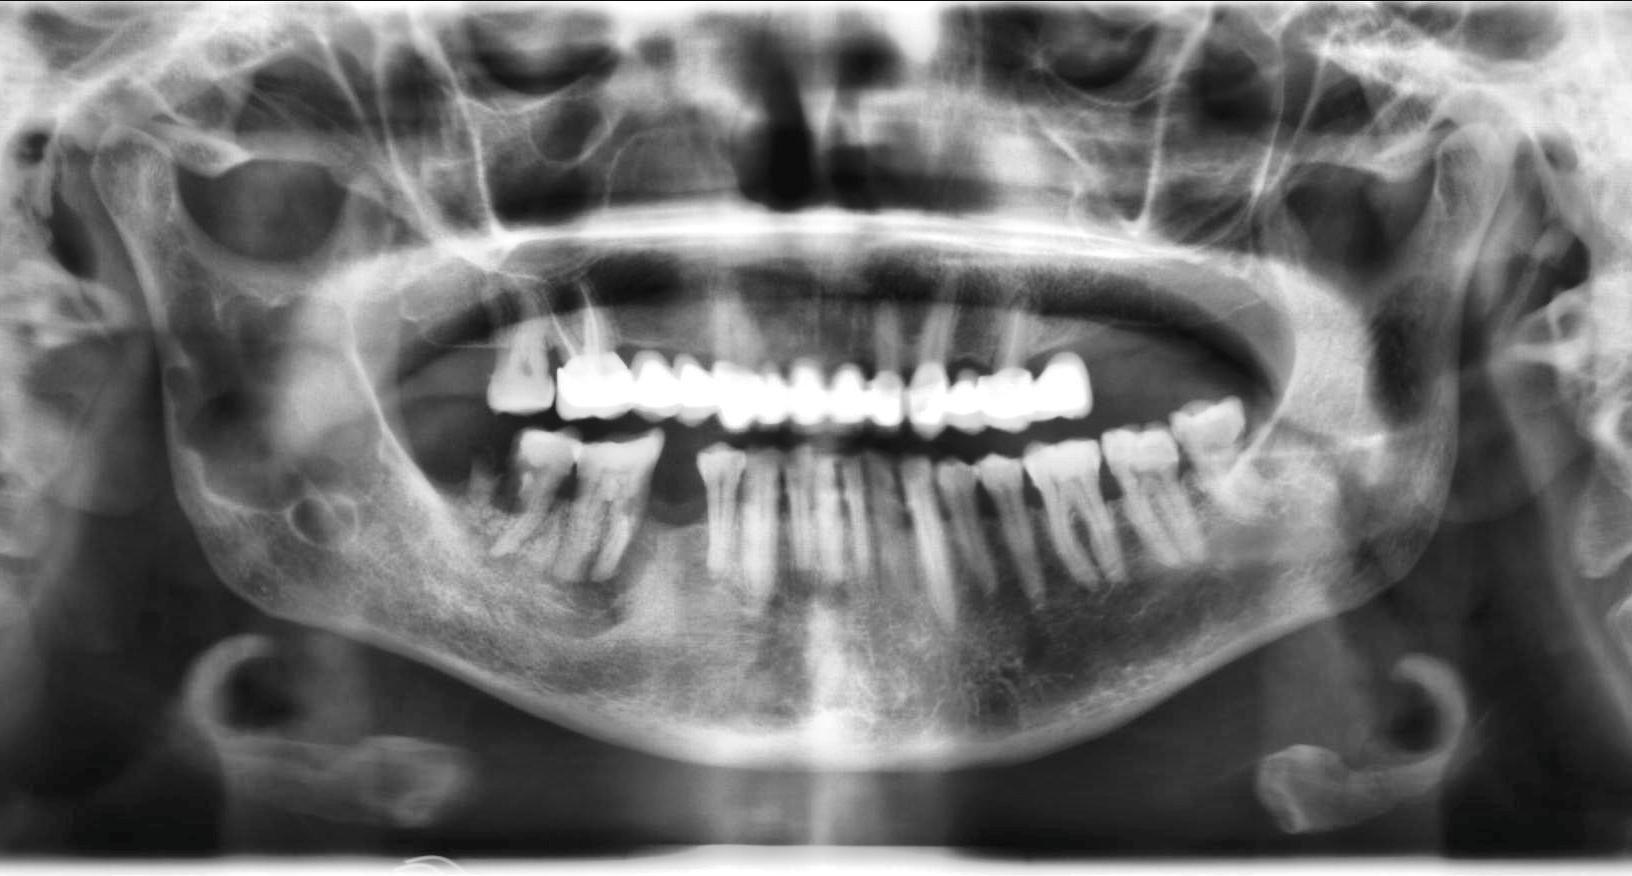keratokist: (163, 282, 386, 550)
radikuler: (567, 536, 658, 618)
